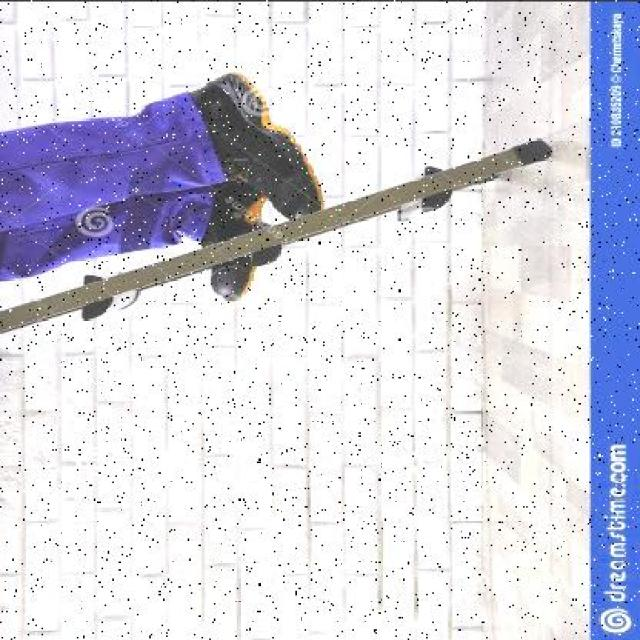shoes: (207, 82, 310, 200)
